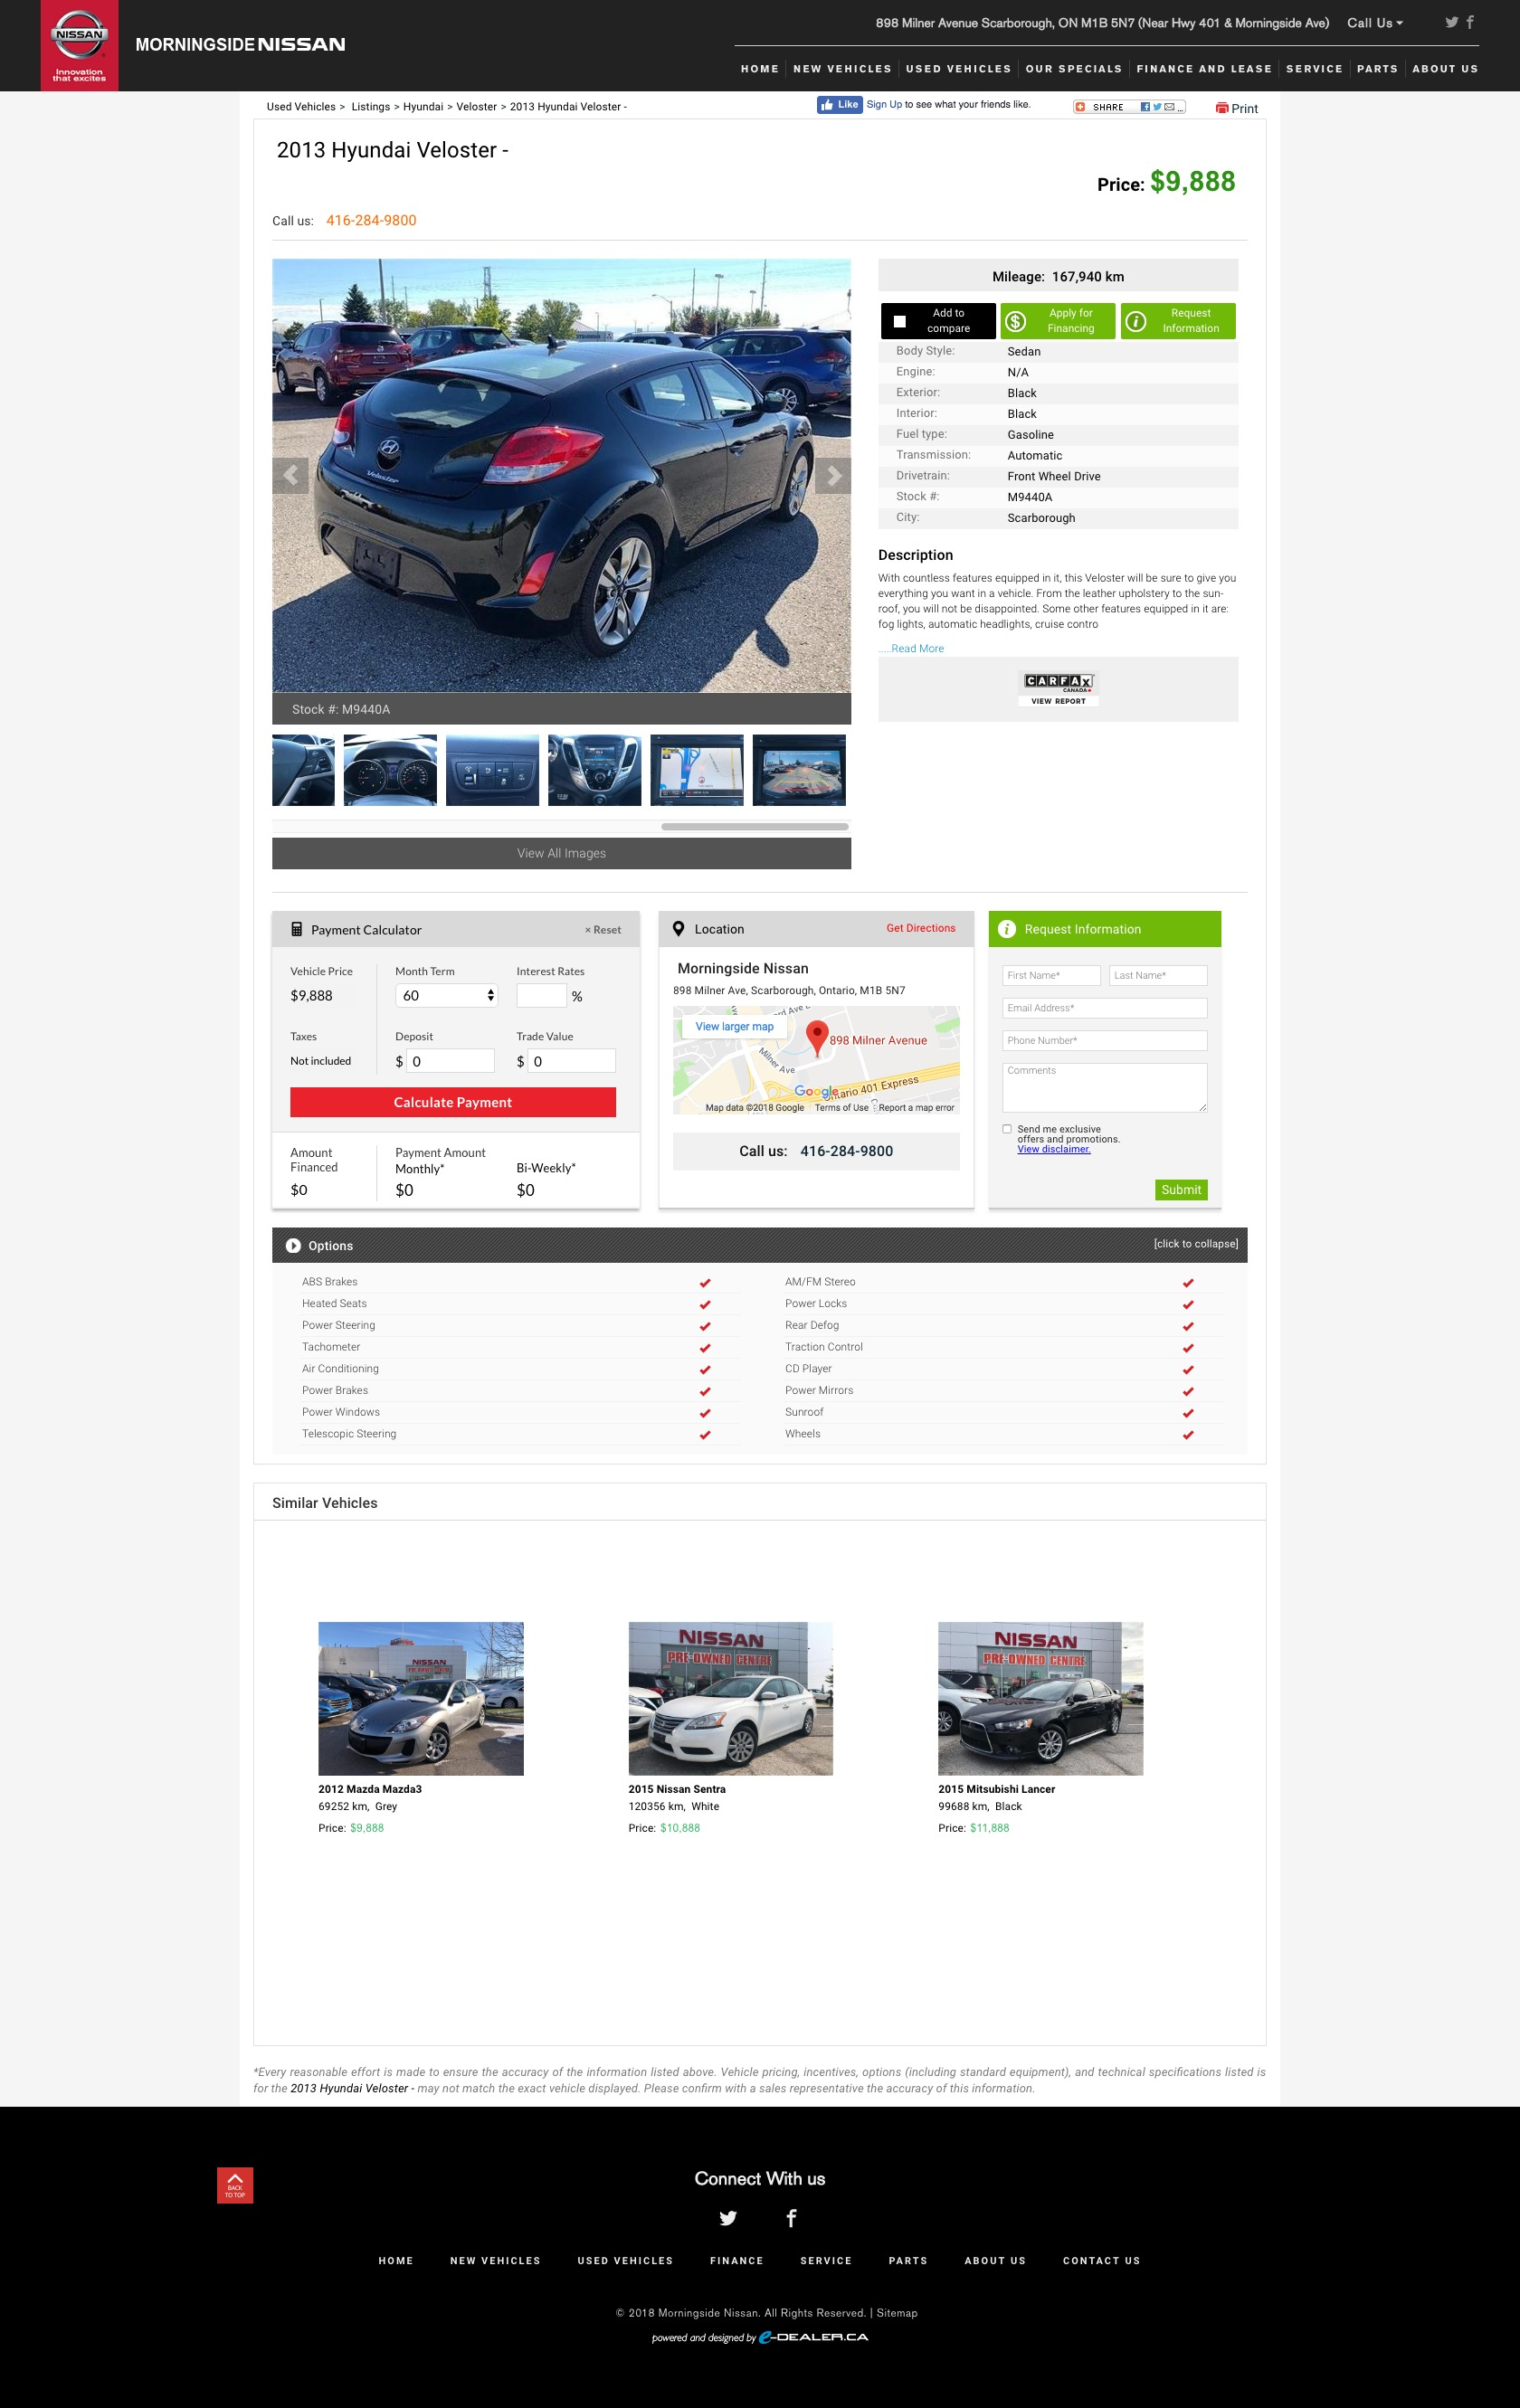car: (827, 465, 844, 488)
